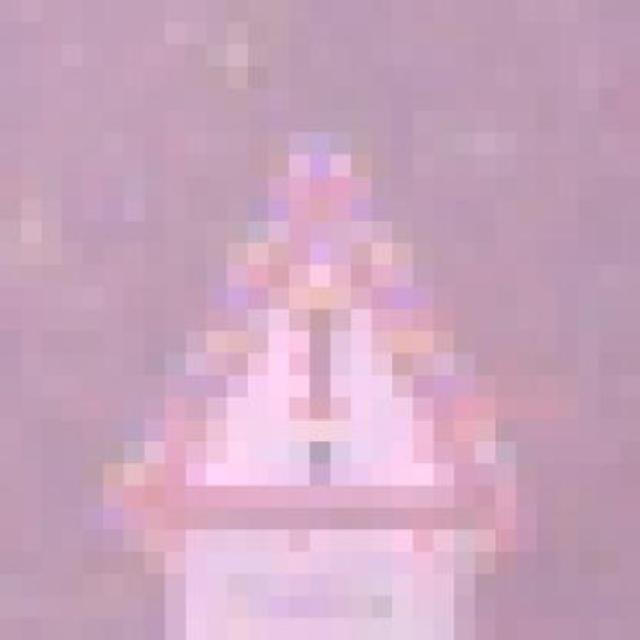Attention Please-: (49, 81, 566, 588)
